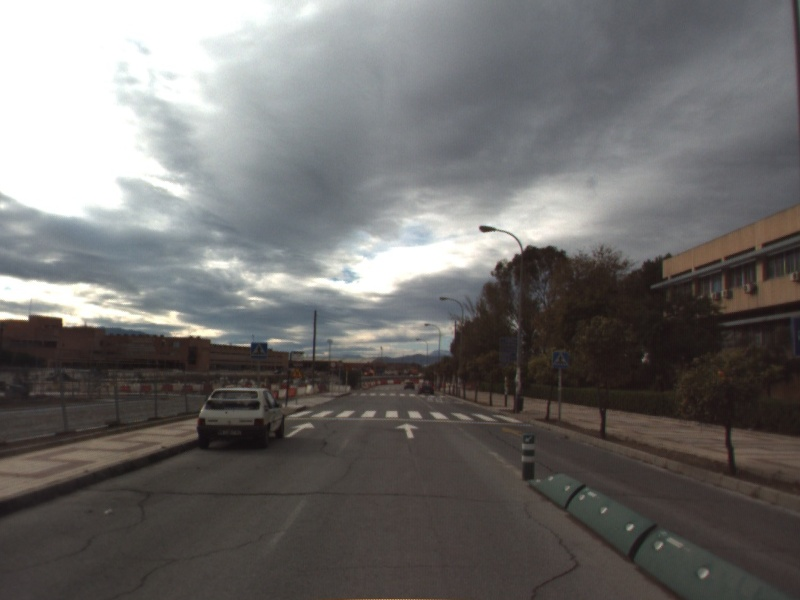STRAIGHT: (282, 420, 317, 439), (393, 421, 421, 440)
